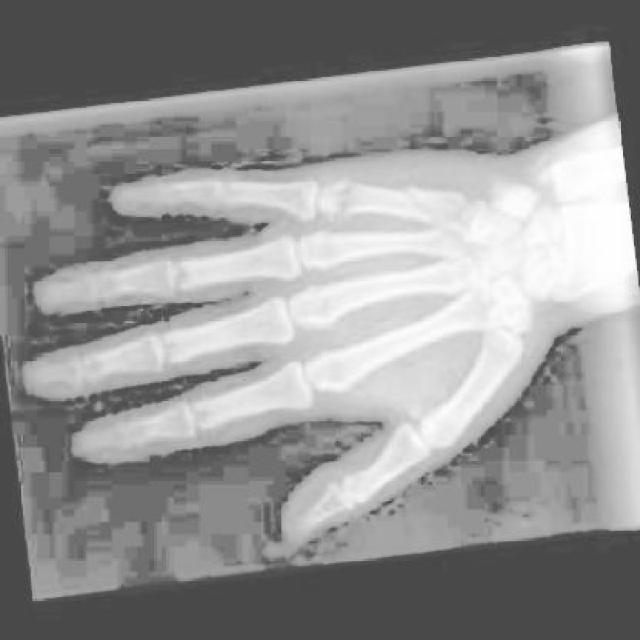Fracture: (391, 177, 456, 234), (314, 165, 370, 227)
